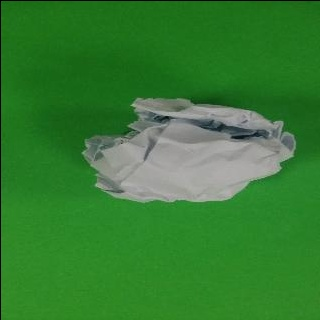8/可回收垃圾/纸: (80, 98, 297, 203)
